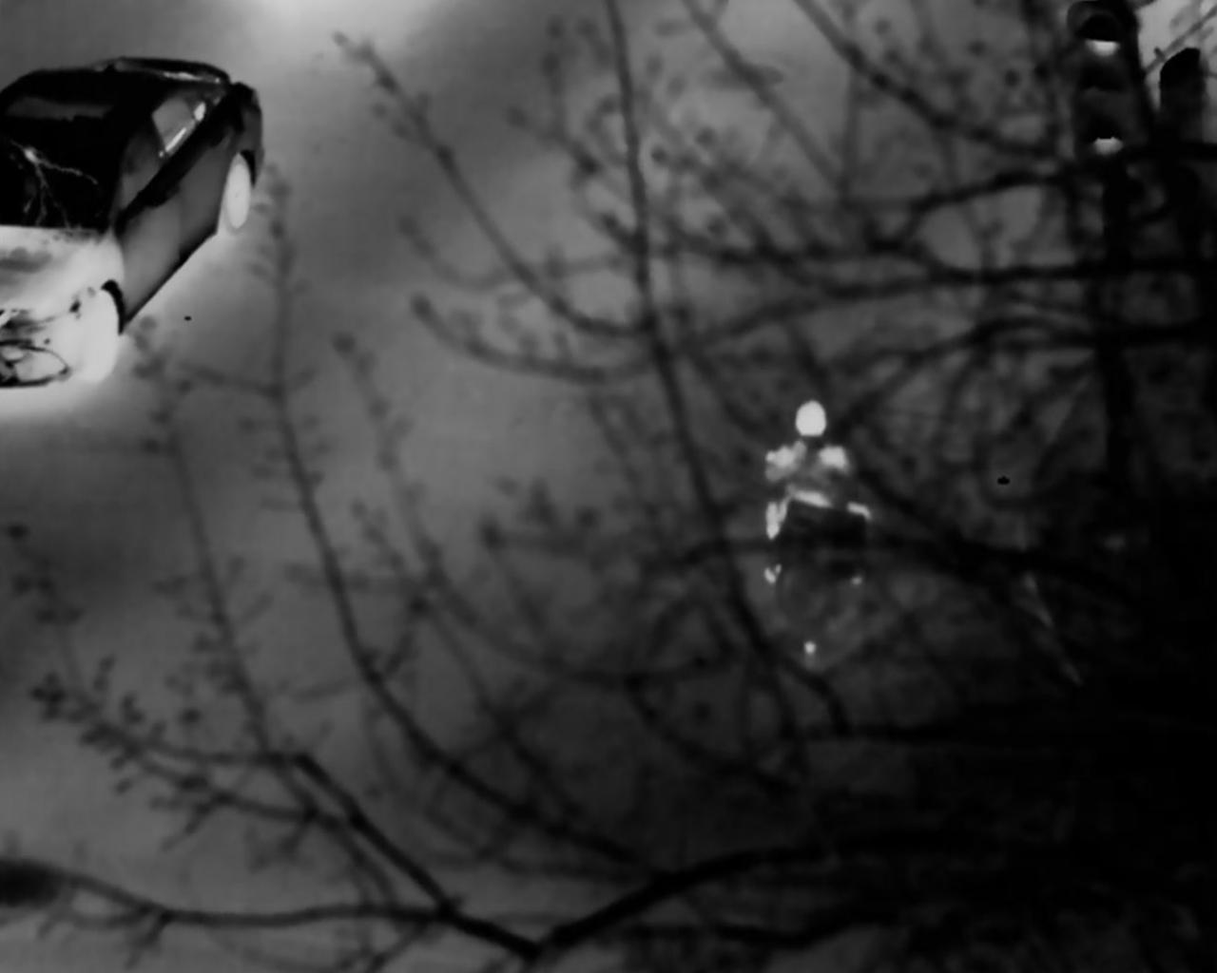person: (756, 399, 880, 625)
